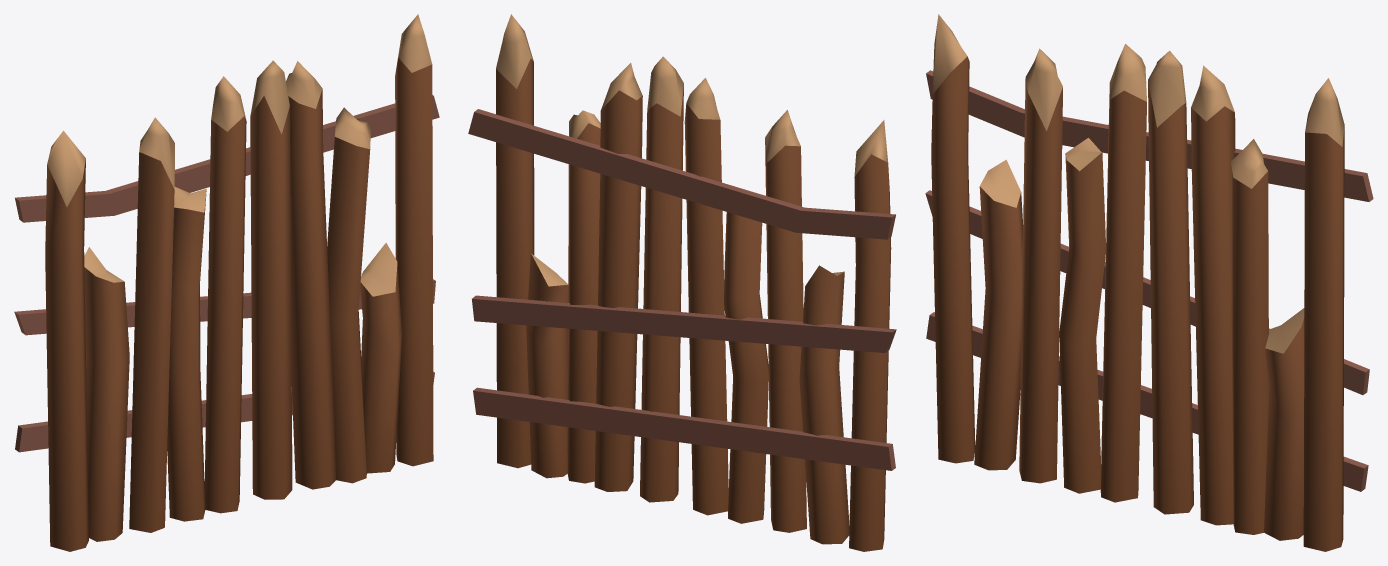
Rendered from Fence_WoodC_C.fbx.
3 renders of one model, left to right at view 1: azimuth 30°, elevation 25°; view 2: azimuth 150°, elevation 25°; view 3: azimuth 330°, elevation 25°, orthographic. The views are drawn at different scales.
Visible parts, largest first — view 1: Fence_WoodC_C; view 2: Fence_WoodC_C; view 3: Fence_WoodC_C.
Part boxes in pixels (left/top/right/bottom): Fence_WoodC_C: left=14, top=14, right=439, bottom=551; Fence_WoodC_C: left=468, top=14, right=896, bottom=551; Fence_WoodC_C: left=925, top=14, right=1373, bottom=551.
Size of the model in its own units: 563 by 565 by 64.66.
